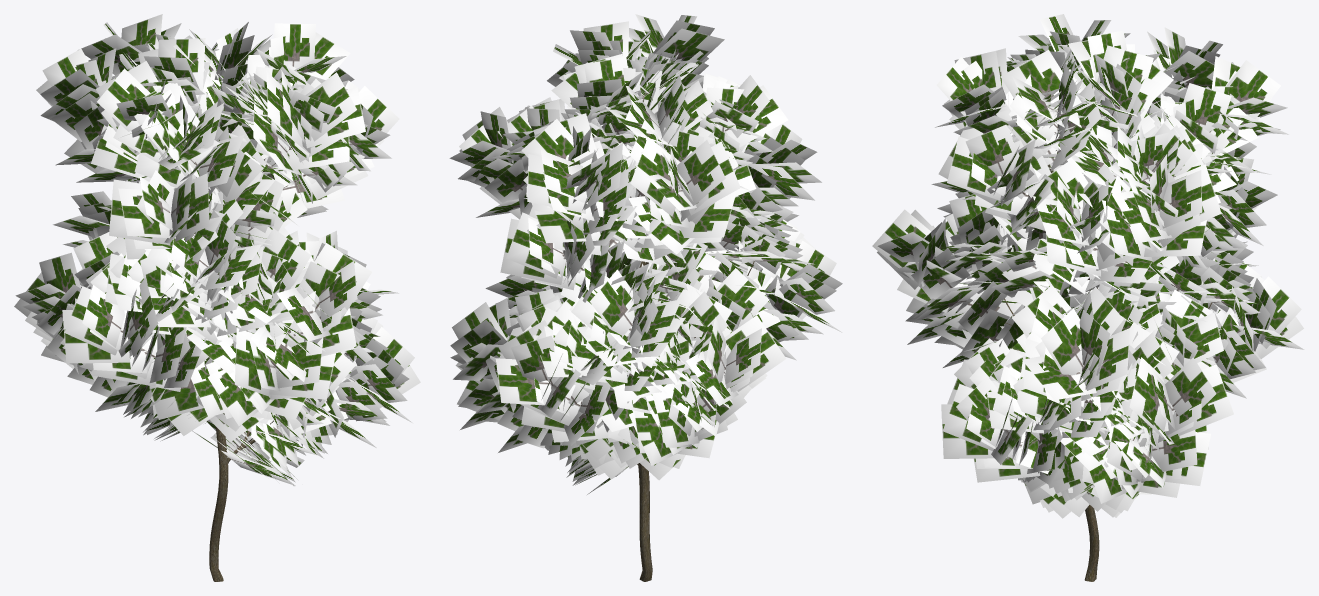
Rendered from street_tree.glb.
3 renders of one model, left to right at view 1: azimuth 30°, elevation 25°; view 2: azimuth 150°, elevation 25°; view 3: azimuth 270°, elevation 25°, orthographic. The views are drawn at different scales.
Visible parts, largest first — view 1: Maple_1_Maple_Leaf_0, Maple_1_Maple_Bark_0; view 2: Maple_1_Maple_Leaf_0, Maple_1_Maple_Bark_0; view 3: Maple_1_Maple_Leaf_0, Maple_1_Maple_Bark_0.
Boxes of the visible parts, box(x1,y1,x2,y2) form: Maple_1_Maple_Leaf_0: box(14, 14, 420, 486); Maple_1_Maple_Bark_0: box(142, 148, 305, 581); Maple_1_Maple_Leaf_0: box(449, 14, 842, 494); Maple_1_Maple_Bark_0: box(545, 127, 754, 581); Maple_1_Maple_Leaf_0: box(872, 14, 1304, 518); Maple_1_Maple_Bark_0: box(968, 109, 1212, 581).
Size of the model in its own units: 11.8 by 17.87 by 12.86.
2 materials, 2 textured.
